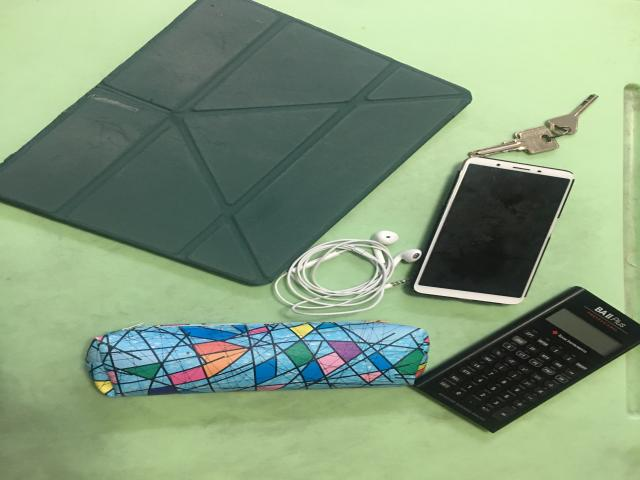Keys: (468, 95, 598, 158)
Mobile phone: (413, 157, 573, 304)
wire: (273, 231, 422, 315)
